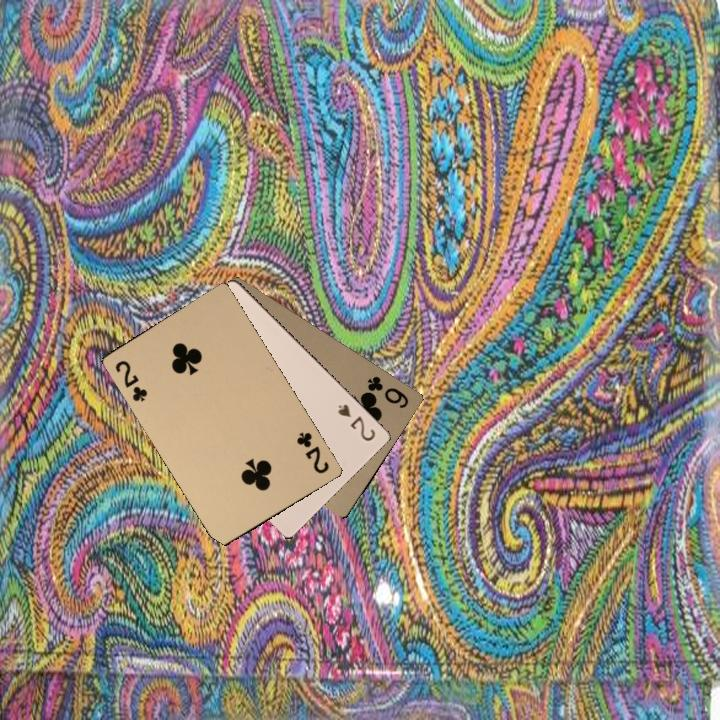2c: (292, 428, 332, 476), (111, 356, 150, 404)
2s: (334, 400, 378, 444)
6c: (363, 372, 411, 411)
